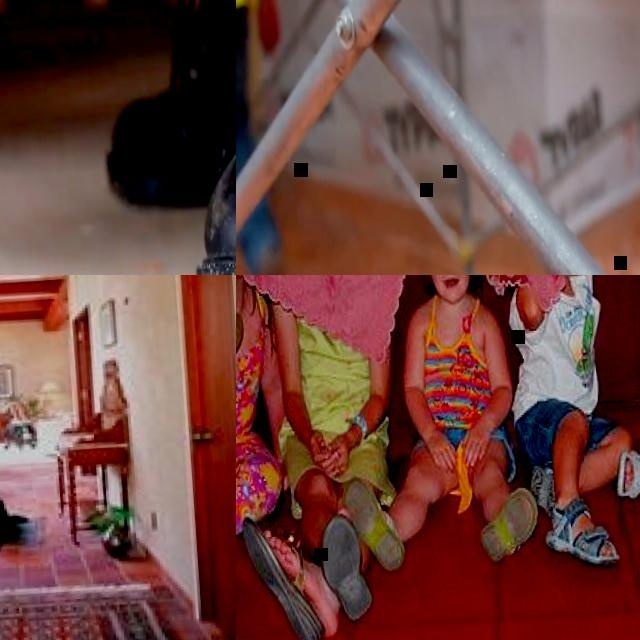NO-Mask: (433, 275, 468, 303)
NO-Safety Vest: (514, 275, 599, 414), (288, 304, 375, 439), (417, 297, 491, 425), (236, 312, 271, 455)
Person: (0, 0, 236, 275), (325, 275, 538, 574), (236, 278, 402, 640), (502, 275, 639, 571), (236, 275, 294, 577)
